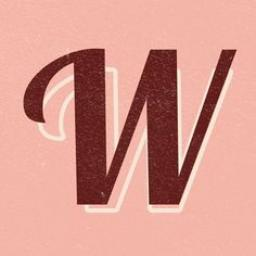w: (15, 27, 247, 219)
